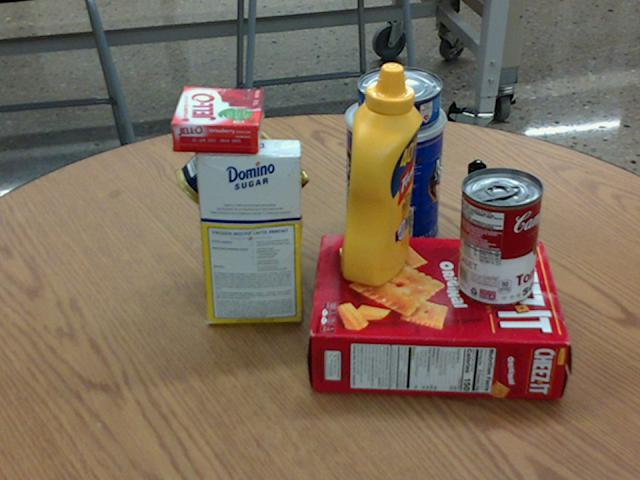cracker_box: (310, 233, 568, 398)
gelatin_box: (171, 85, 264, 151)
large_marker: (459, 160, 485, 269)
master_chef_can: (345, 94, 448, 255)
mug: (196, 178, 290, 288)
mustard_bottle: (340, 61, 422, 286)
potted_meat_can: (175, 112, 310, 242)
sugar_box: (193, 137, 302, 323)
tomato_soup_can: (459, 166, 544, 305)
tuna_fish_can: (358, 66, 443, 129)
